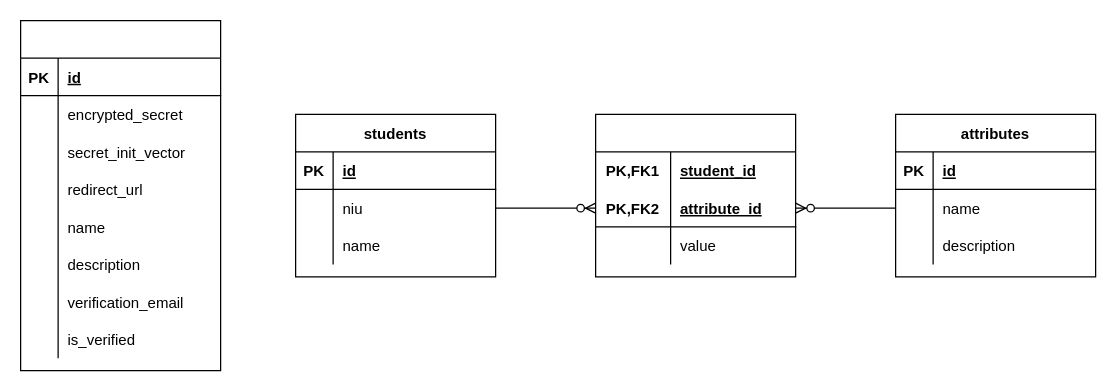
Image size: 1116x391. Some labels were removed from this diagram. The shapes that lost their labels are listed below. From the top down, each one's box as (x1, y1, x2, y2) in pixels, then its label:
(19, 19, 221, 371): clients
(594, 113, 796, 277): student_attributes
